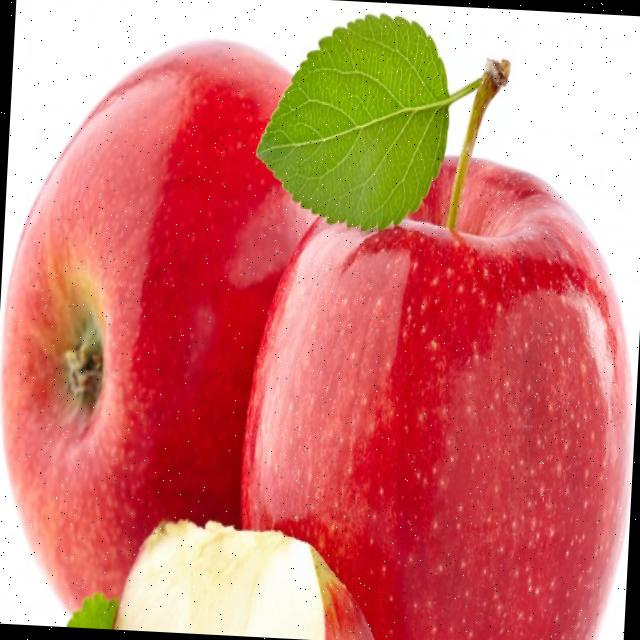Apel: (231, 142, 640, 640), (0, 26, 331, 628), (112, 513, 381, 640)
